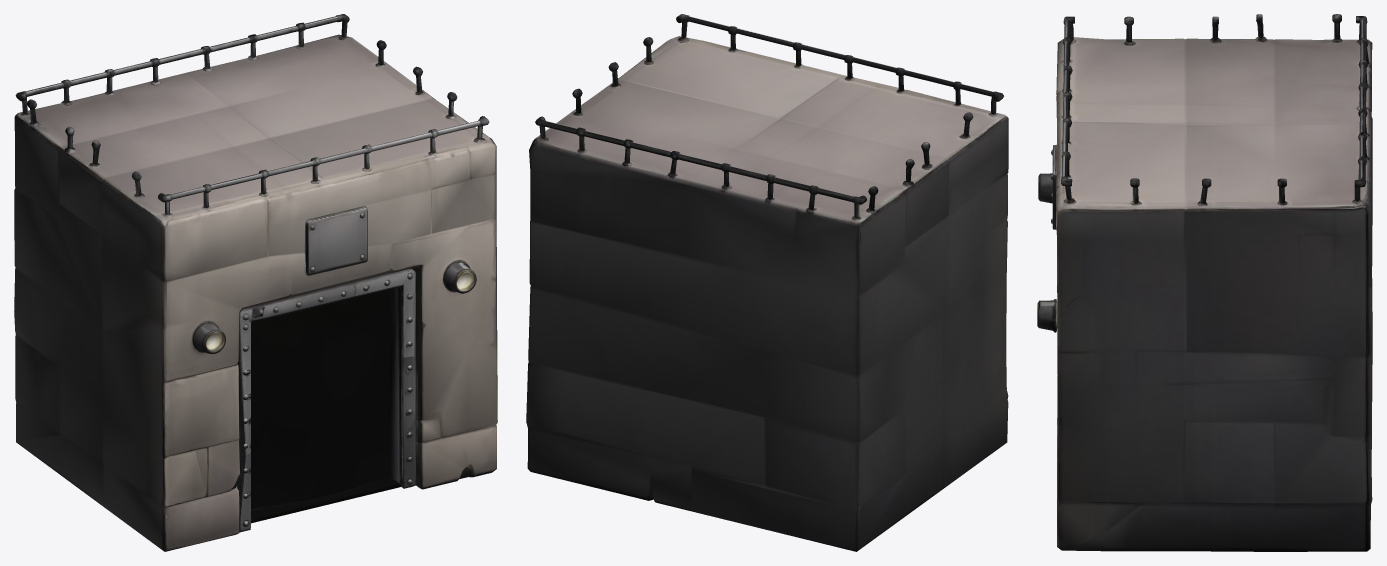
Rendered from tunnel.glb.
3 views of the same model, side by side, from view 1: azimuth 30°, elevation 25°; view 2: azimuth 150°, elevation 25°; view 3: azimuth 270°, elevation 25° (orthographic). The views are drawn at different scales.
Parts seen in each view (by area): view 1: tunnel; view 2: tunnel; view 3: tunnel.
Part boxes in pixels (x1,y1,x2,y2): tunnel: (14, 14, 497, 551); tunnel: (526, 14, 1008, 551); tunnel: (1037, 14, 1372, 551).
Bounding box in the file's own units: 0.9966 × 0.9997 × 0.8207.
Materials: 1 (1 with a texture image).
